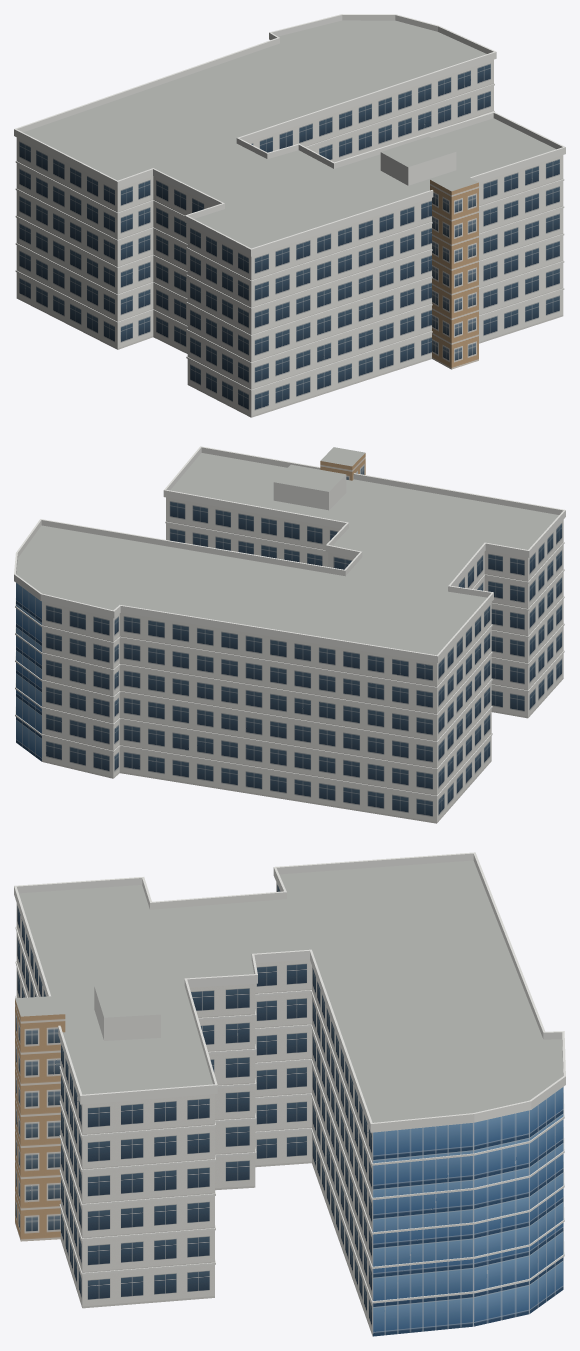
File: mingdelou.glb
3 renders of one model, top to bottom at view 1: azimuth 30°, elevation 25°; view 2: azimuth 150°, elevation 25°; view 3: azimuth 270°, elevation 25°, orthographic. The views are drawn at different scales.
Parts seen in each view (by area): view 1: 明德楼; view 2: 明德楼; view 3: 明德楼.
Part boxes in pixels (x1,y1,x2,y2): 明德楼: (14,14,565,417); 明德楼: (14,446,565,823); 明德楼: (14,852,565,1336).
Size of the model in its own units: 67.39 by 26.6 by 57.84.
Materials: 5 (3 with a texture image).
